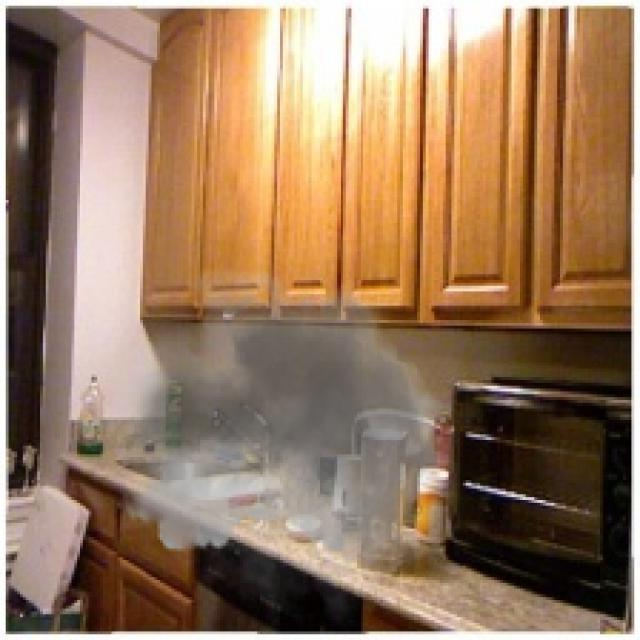Smoke: (103, 248, 466, 628)
